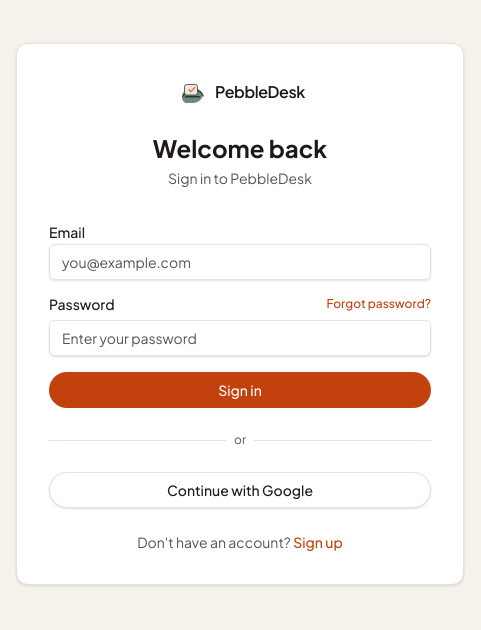
Test: public auth pages › shows an error when sign-in succeeds but auth status refresh fails
In the field labelled "Email": (240, 262) [49, 244, 431, 280], type "jane@example.com"
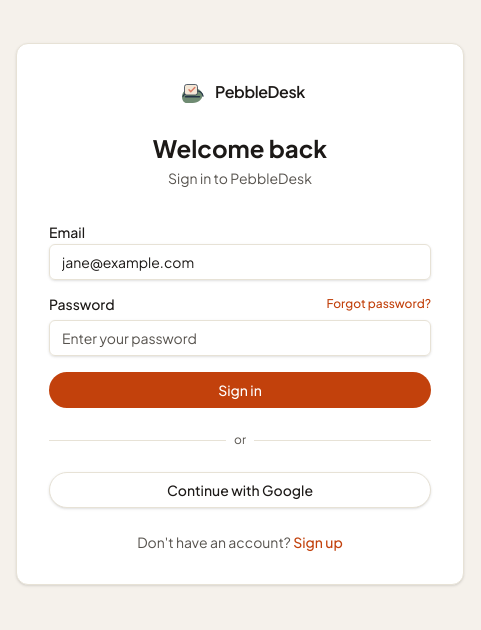
In the password field labelled "Password": (240, 338) [49, 320, 431, 356], type "password123"
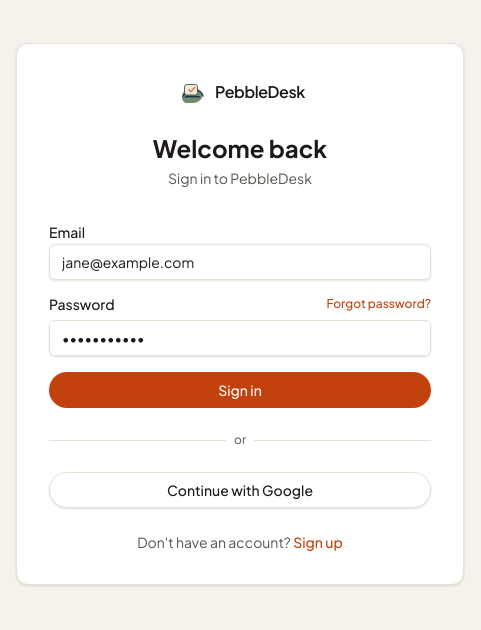
Click the button "Sign in": click(240, 390) [49, 372, 431, 408]
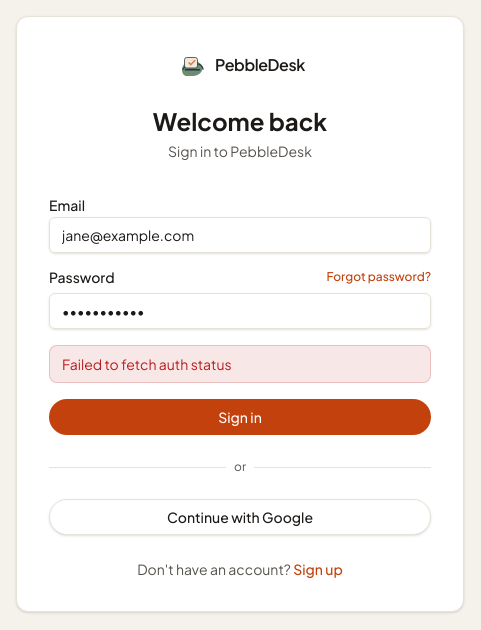
Expected: the text "Failed to fetch auth status" is shown, [49, 345, 431, 383]
